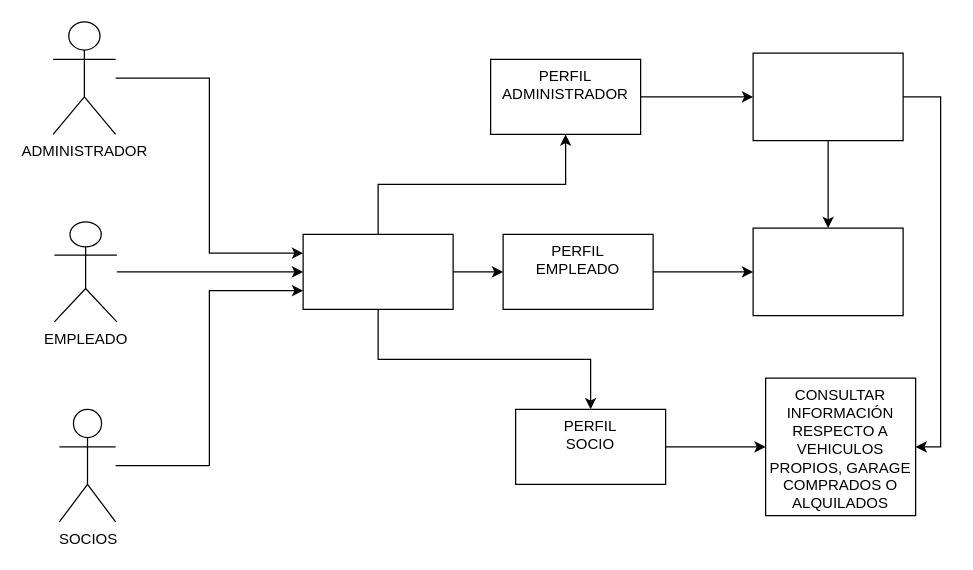
Image size: 973x570. Some labels were removed from this diagram. Here are the shapes that lost their labels. From the top down, the box of each, then its label:
(752, 52, 903, 141): CONSULTAR INFORMACIÓN DE TODOS LOS PERFILES
(302, 233, 453, 309): LOGIN
(752, 227, 903, 316): CONSULTAR INFORMACIÓN RESPECTO A ZONAS ASIGNADAS
